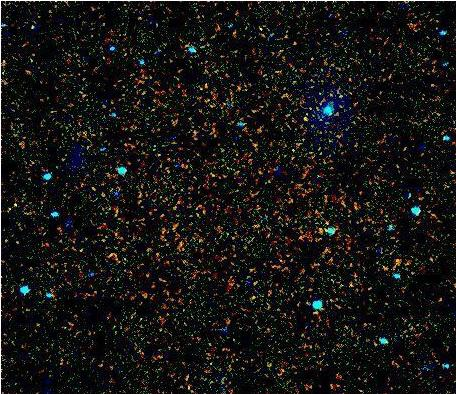star: (288, 104, 318, 134)
